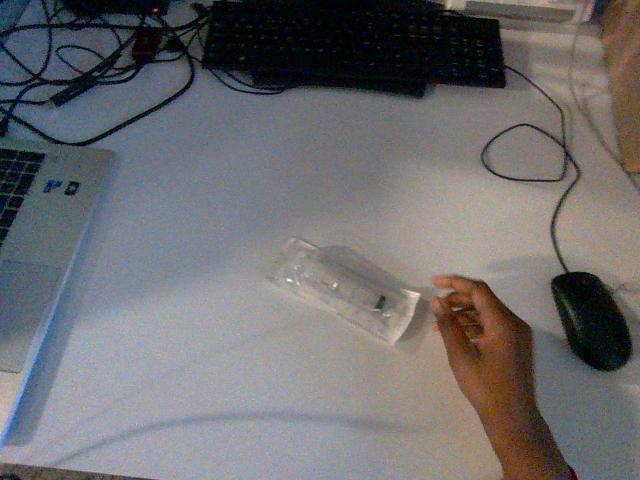syringe: (268, 238, 419, 343)
